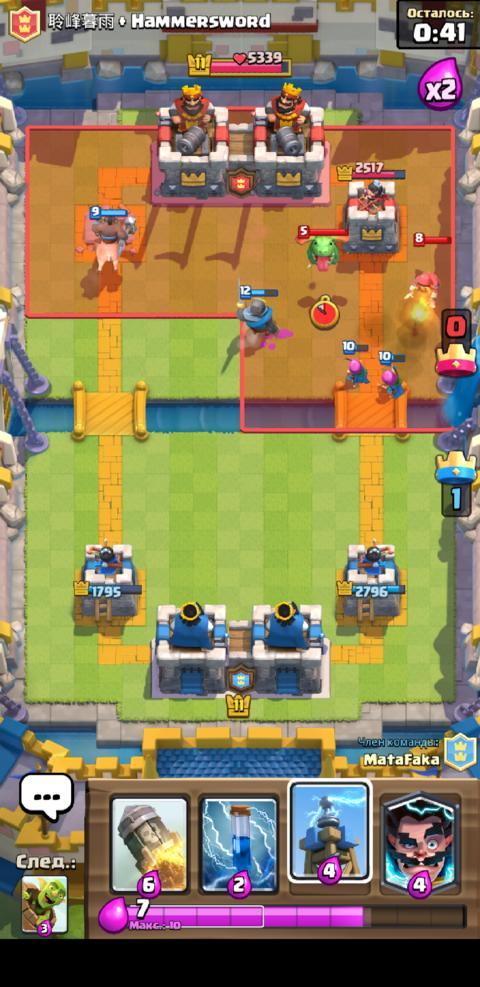ally_archer: (376, 349, 406, 399), (340, 339, 371, 385)
ally_hog_rider: (86, 204, 137, 273)
ally_knight: (234, 273, 280, 337)
enemy_baby_dragon: (292, 223, 349, 272)
enemy_wizard: (402, 229, 452, 308)
